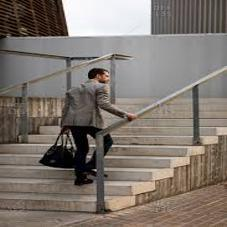Bench: (1, 137, 111, 210)
